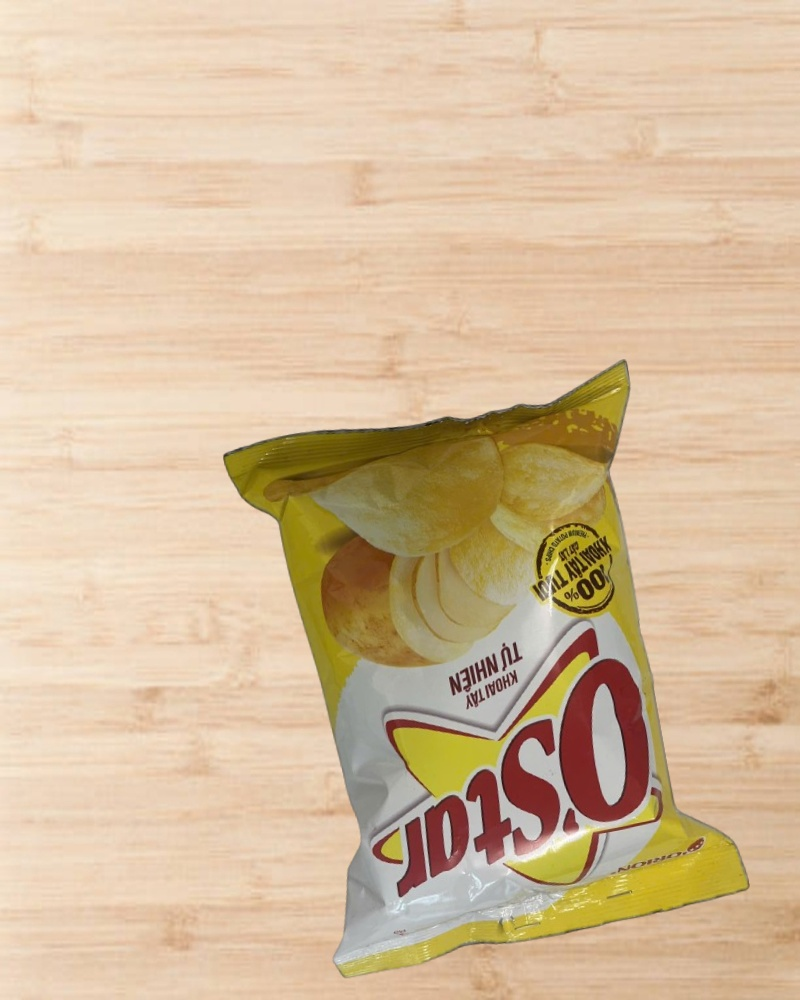Snack cua: (226, 361, 750, 976)
